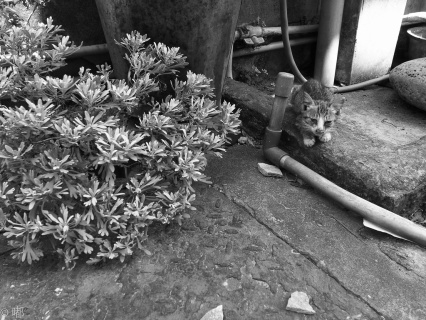Cat: (290, 76, 346, 147)
